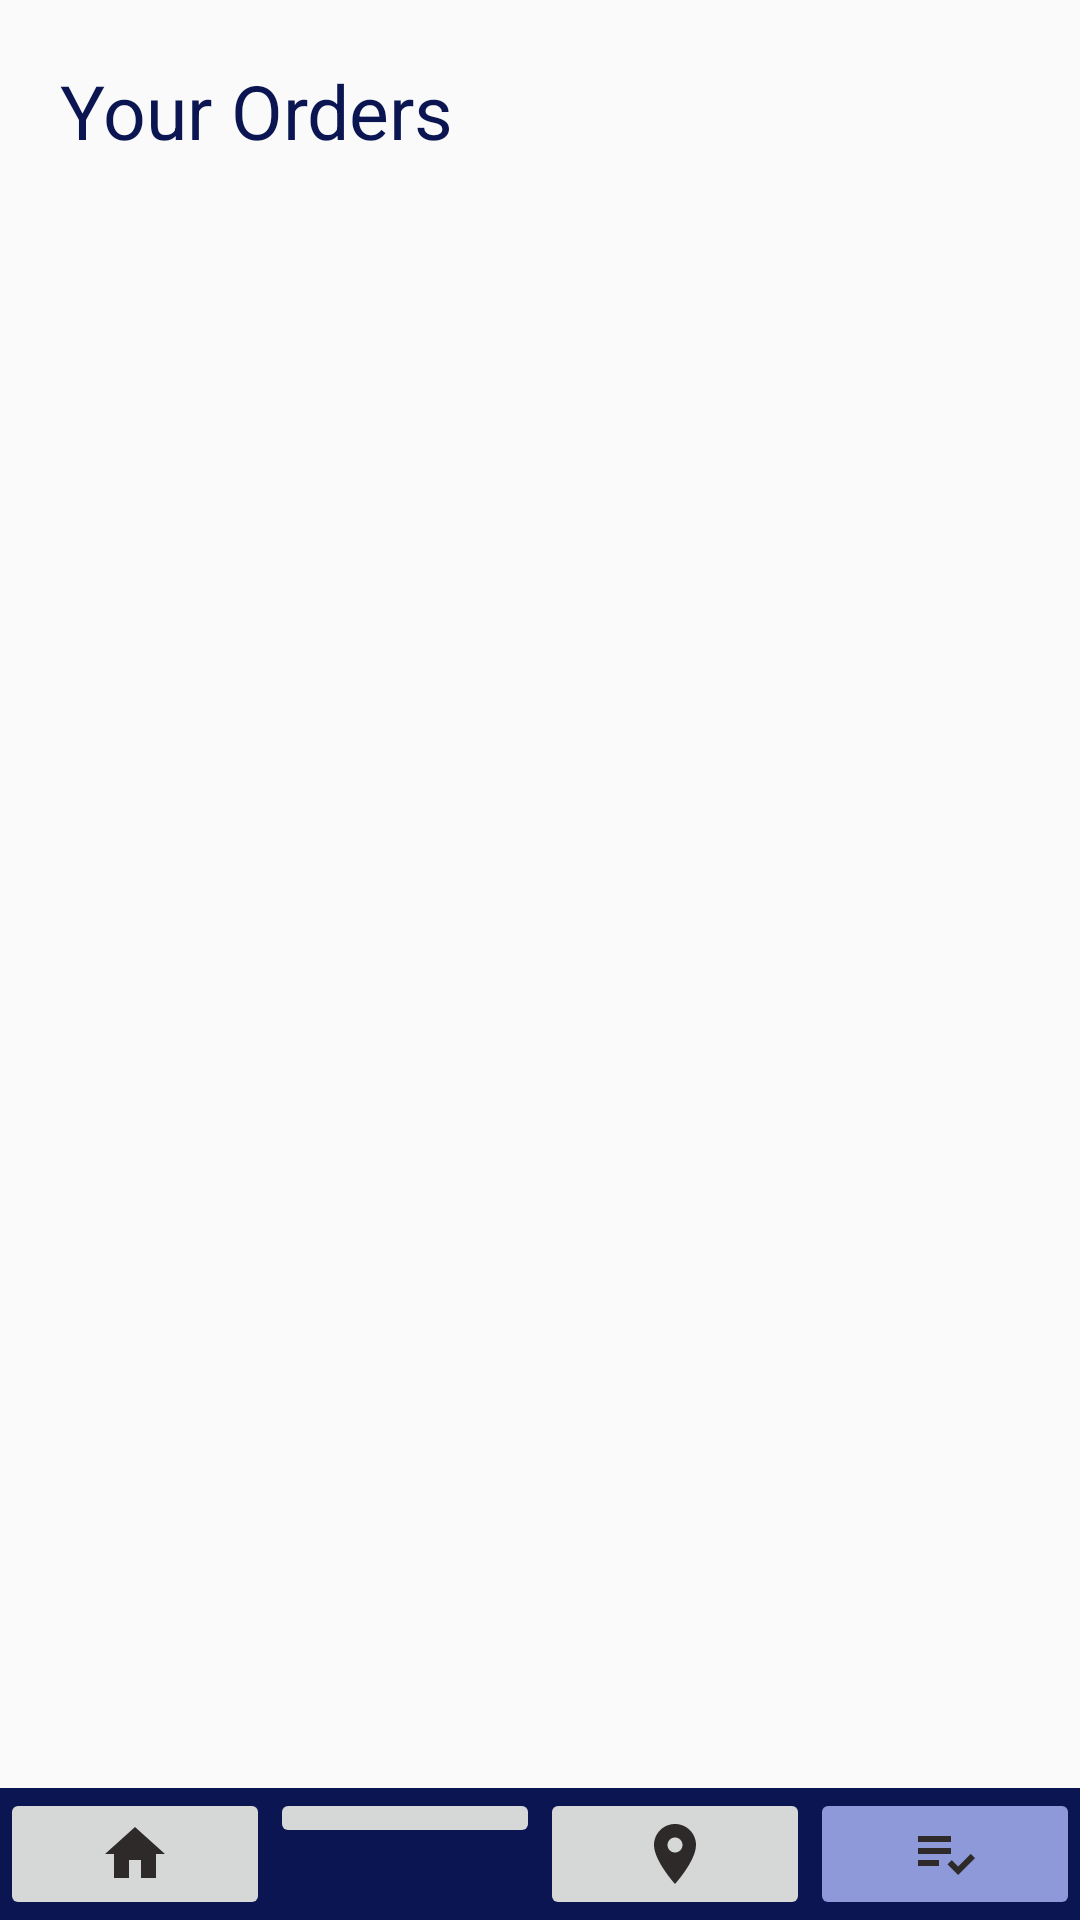

Icon click points for this 1080w x 1920h phone screenshot, format (x,y):
home: (135,1854)
location on: (675,1854)
playlist add check: (945,1854)
